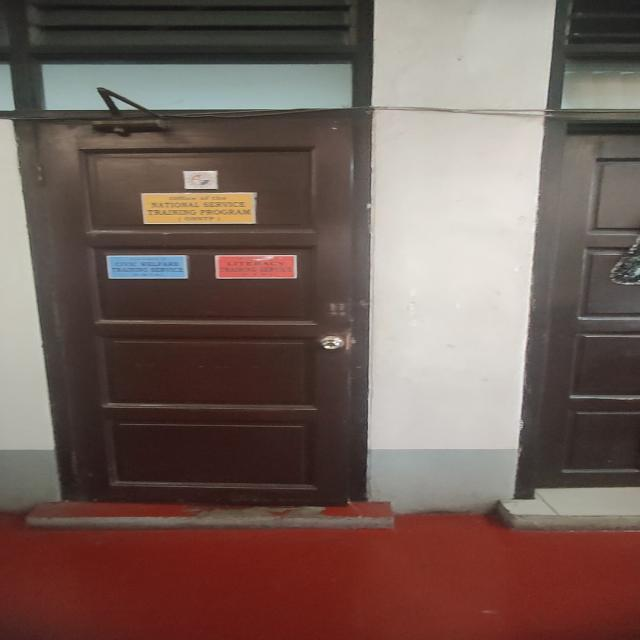door: (30, 116, 363, 513), (539, 124, 640, 488)
